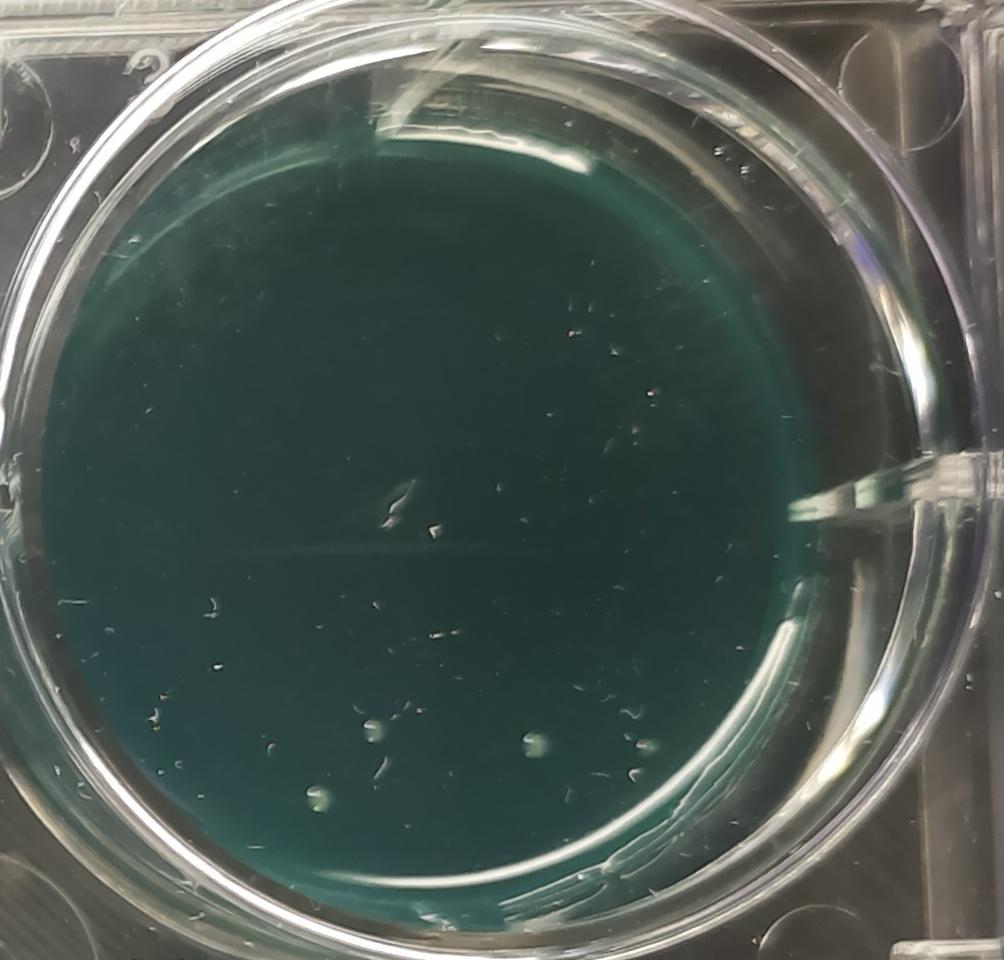vangil: (355, 715, 404, 755), (517, 727, 548, 767), (304, 785, 340, 819)
